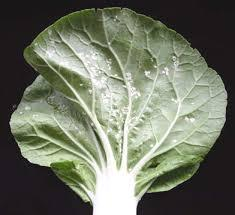Bok-Choy-Diseased: (8, 14, 235, 215)
